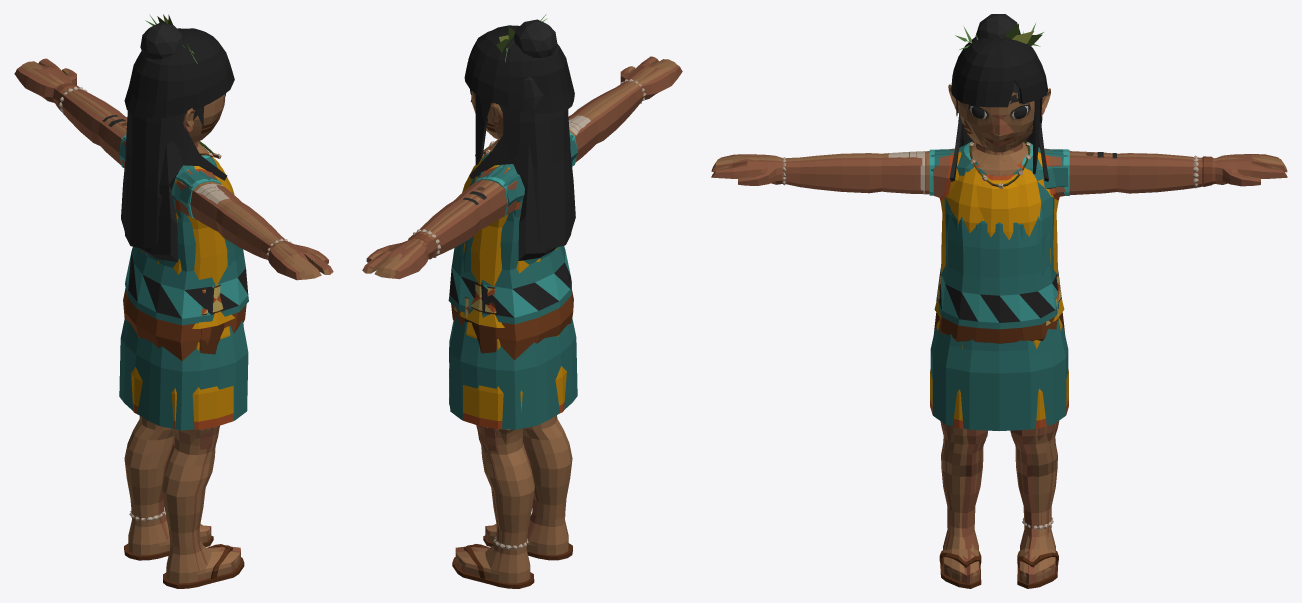
File: Personagens (1).fbx
3 renders of one model, left to right at view 1: azimuth 30°, elevation 25°; view 2: azimuth 150°, elevation 25°; view 3: azimuth 270°, elevation 25°, orthographic.
Parts seen in each view (by area): view 1: MeninaAz, MeninoAz, MeninoAm, MeninaAma; view 2: MeninaAz, MeninoAz, MeninoAm, MeninaAma; view 3: MeninoAm, MeninaAz, MeninoAz, MeninaAma.
Boxes of the visible parts, box(x1,y1,x2,y2) form: MeninaAz: box(21, 14, 332, 585); MeninoAz: box(42, 28, 321, 578); MeninoAm: box(14, 58, 333, 588); MeninaAma: box(54, 14, 291, 567); MeninaAz: box(363, 14, 677, 585); MeninoAz: box(374, 25, 577, 584); MeninoAm: box(362, 56, 682, 588); MeninaAma: box(408, 26, 645, 568); MeninoAm: box(711, 89, 1287, 588); MeninaAz: box(711, 14, 1287, 588); MeninoAz: box(713, 36, 1285, 581); MeninaAma: box(782, 24, 1212, 581).
Bounding box in the file's own units: 208 × 1004 × 968.
